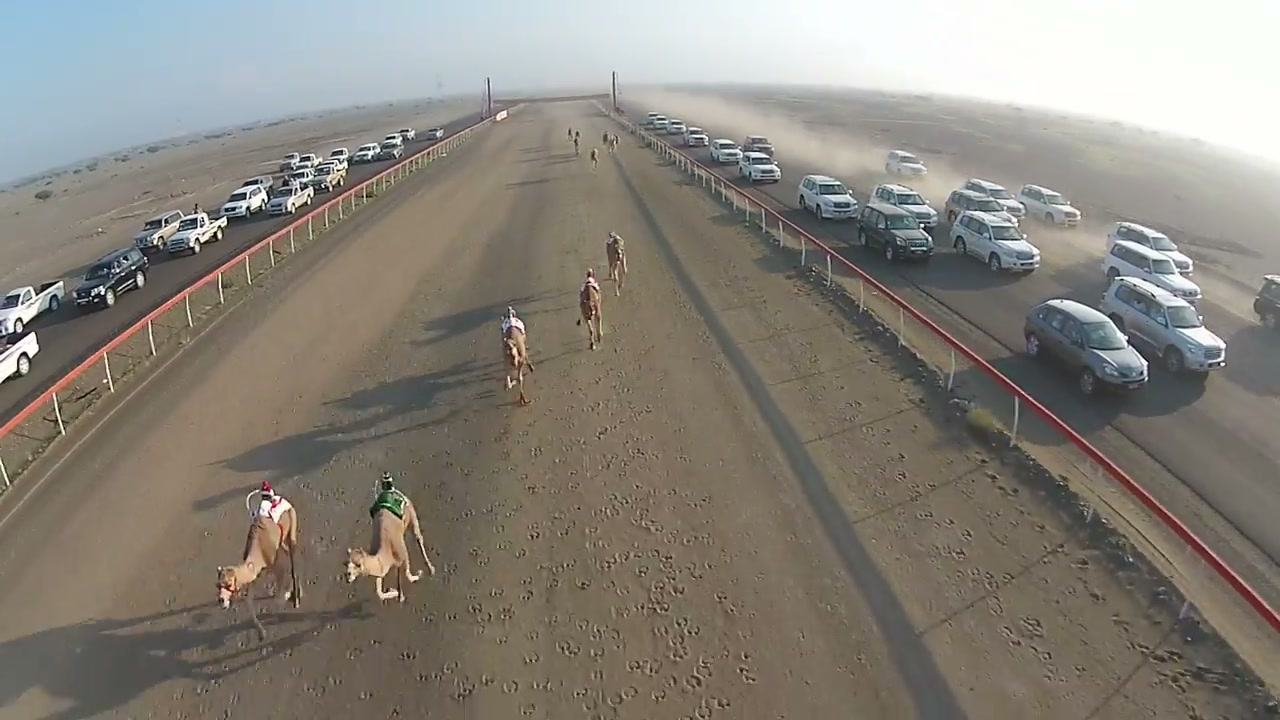animal_foot_print: (353, 382, 737, 708)
